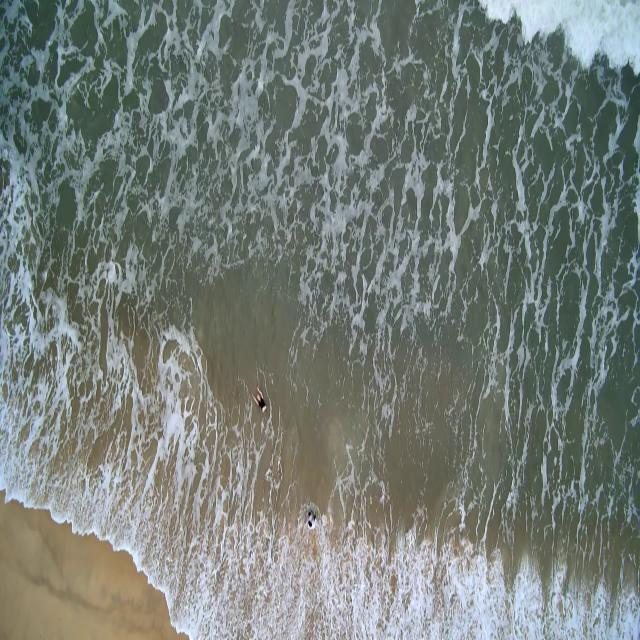dummy: (251, 385, 267, 414)
